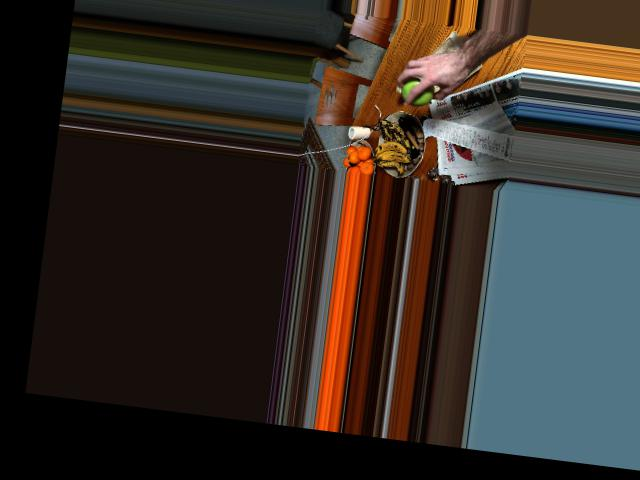apple: (400, 70, 439, 109)
